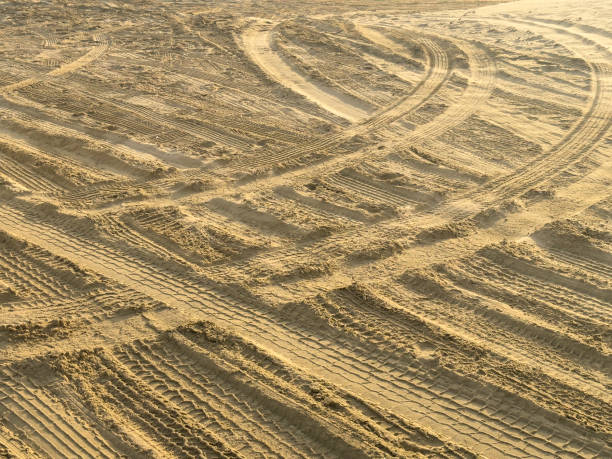vehicle_track: (0, 205, 609, 456), (235, 38, 449, 169), (419, 290, 609, 402), (470, 62, 611, 199), (25, 82, 252, 148), (242, 24, 368, 122), (0, 369, 116, 458), (408, 43, 494, 141), (0, 40, 109, 94), (0, 155, 62, 194)
